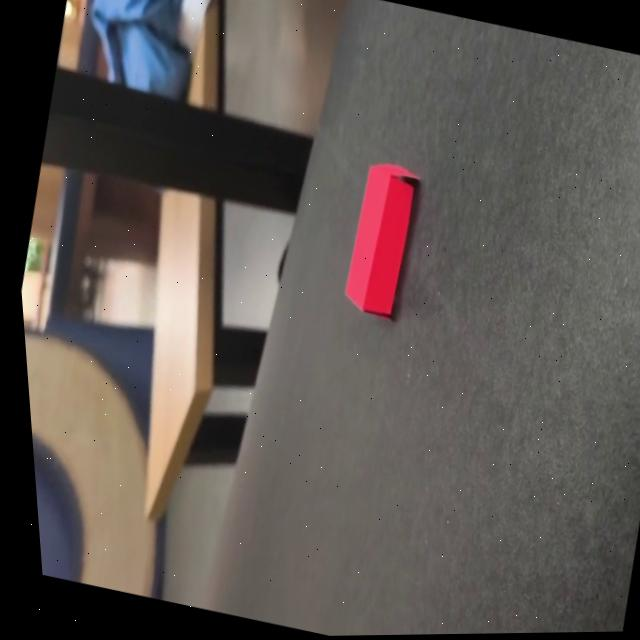red block: (328, 157, 431, 323)
